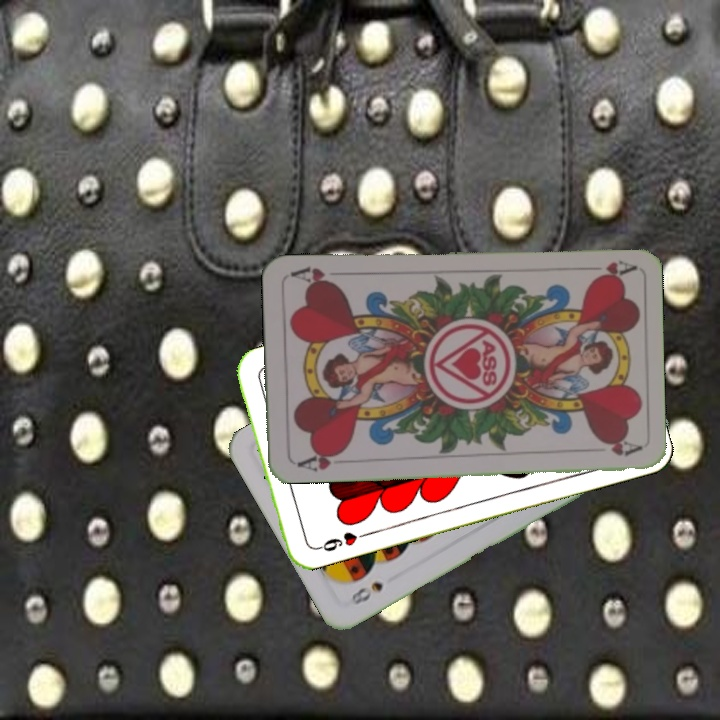H9: (310, 527, 369, 554)
HA: (293, 446, 349, 474), (577, 256, 636, 281)
S8: (347, 577, 386, 608)
